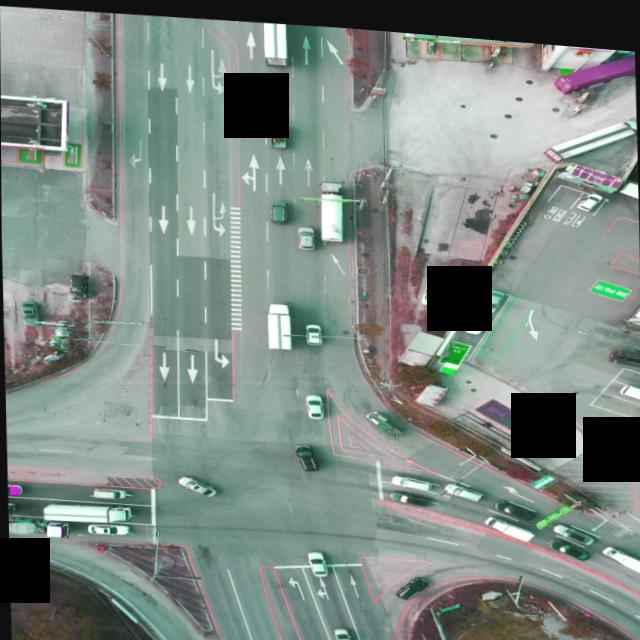car: (393, 567, 429, 594), (551, 513, 593, 535), (494, 490, 536, 511), (175, 471, 215, 492), (389, 484, 435, 502), (443, 474, 484, 494), (389, 467, 431, 484), (480, 280, 507, 304), (555, 530, 589, 549), (294, 438, 317, 466), (87, 521, 129, 535), (575, 181, 602, 201), (464, 303, 488, 325), (420, 275, 441, 299), (308, 545, 328, 570), (68, 272, 87, 297), (92, 483, 126, 496), (306, 389, 324, 413), (21, 300, 39, 324), (298, 220, 316, 243), (270, 194, 288, 217), (331, 620, 350, 640), (304, 316, 320, 336), (6, 485, 20, 497)
medium_truck: (539, 102, 635, 156), (41, 495, 129, 523), (265, 295, 294, 345), (321, 185, 346, 241), (7, 517, 65, 538), (263, 17, 290, 62), (607, 336, 640, 356)
small_bus: (617, 372, 640, 388)
small_truck: (480, 504, 535, 533), (598, 532, 640, 563), (364, 404, 402, 432), (267, 116, 287, 143)
